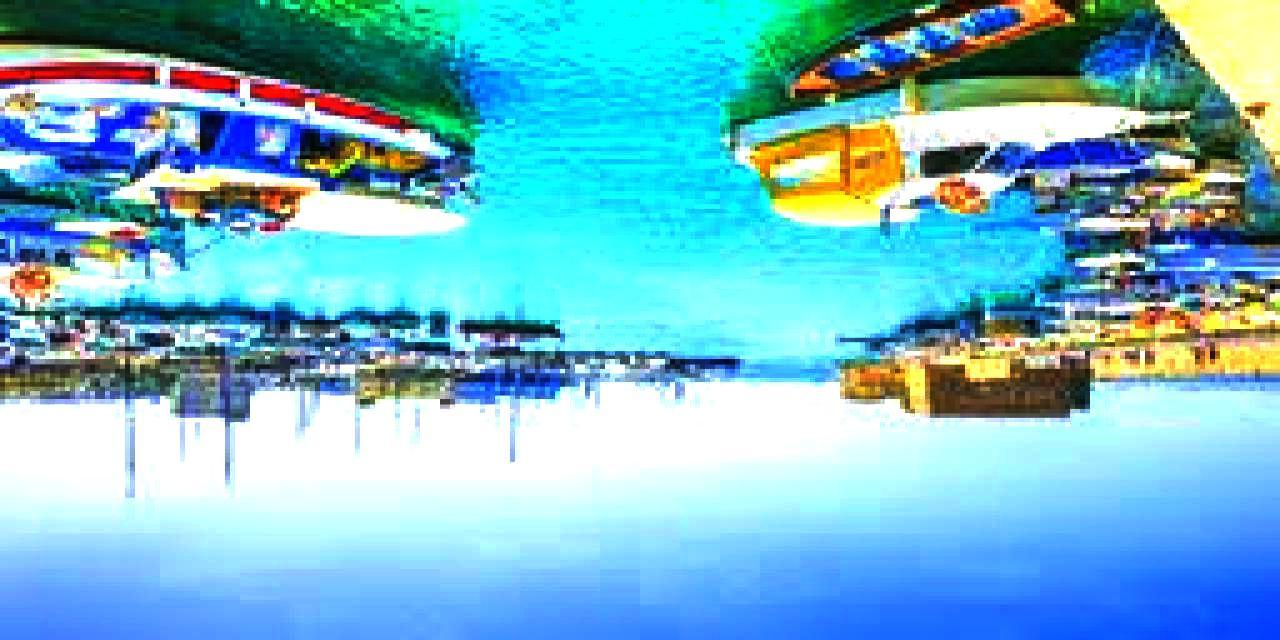Kules: (834, 358, 1098, 425)
